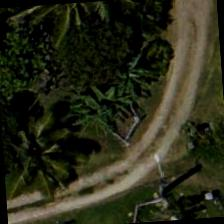Kelapa_Sawit: (0, 103, 75, 199)
